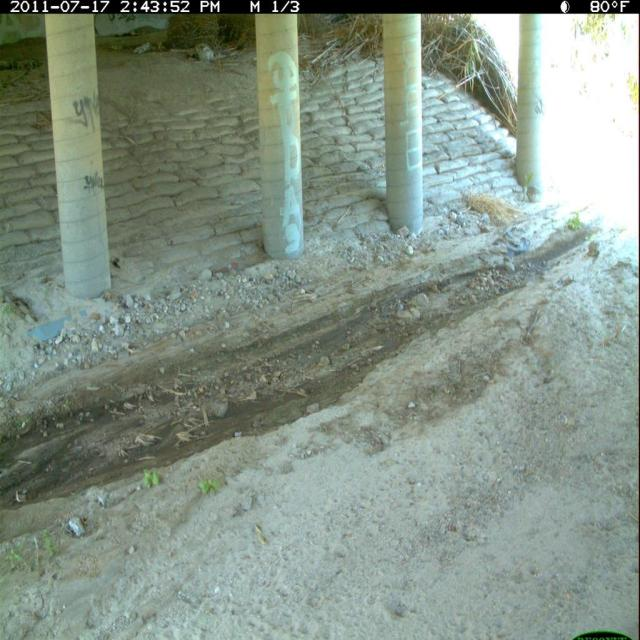bobcat: (3, 2, 640, 640)
